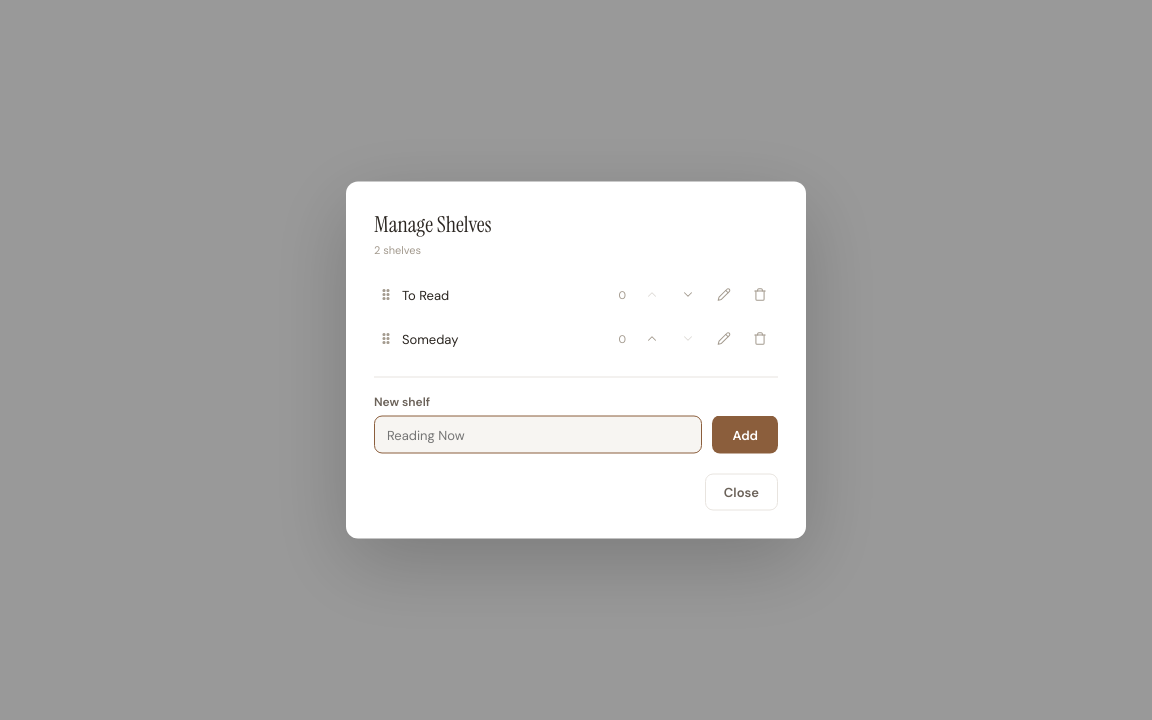
Scenario: ShelfManager › keeps a refused rename open, with the name still typed
Expected: the text "Someday" is shown, [402,330,458,347]
Click the button named "Edit Someday" at point(724, 338), box [710,324,738,352]
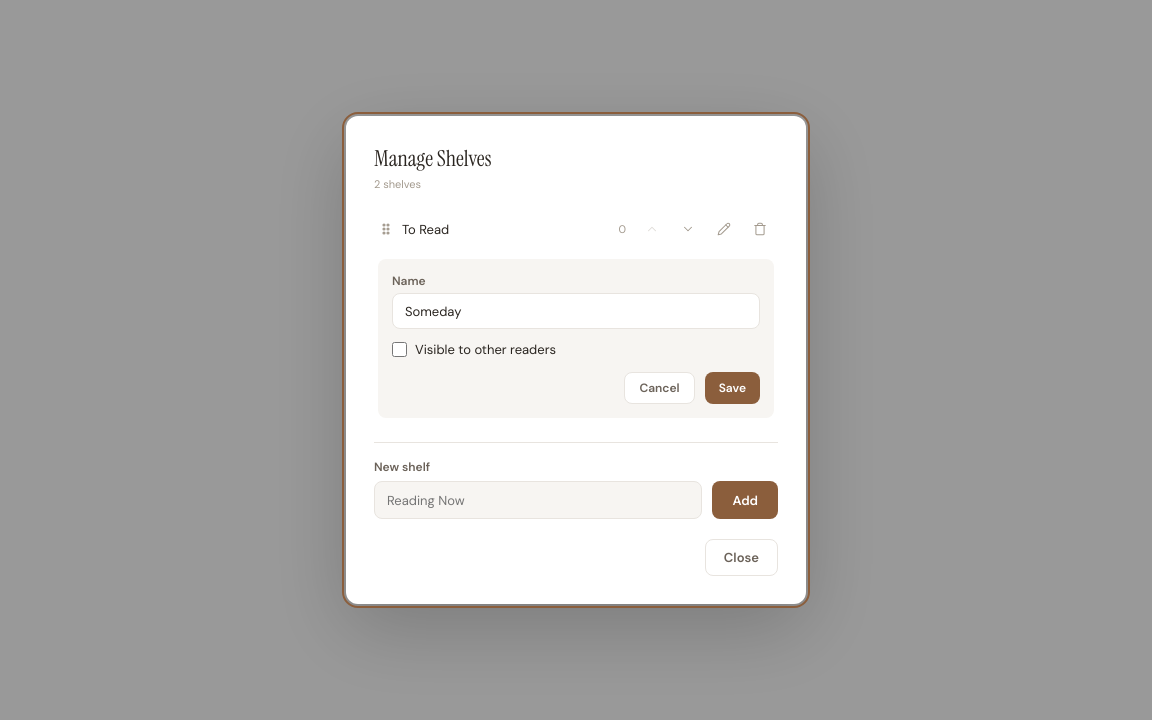
Replace the text in the field labelled "Name" with "to read" at point(576, 311), box [392,293,760,329]
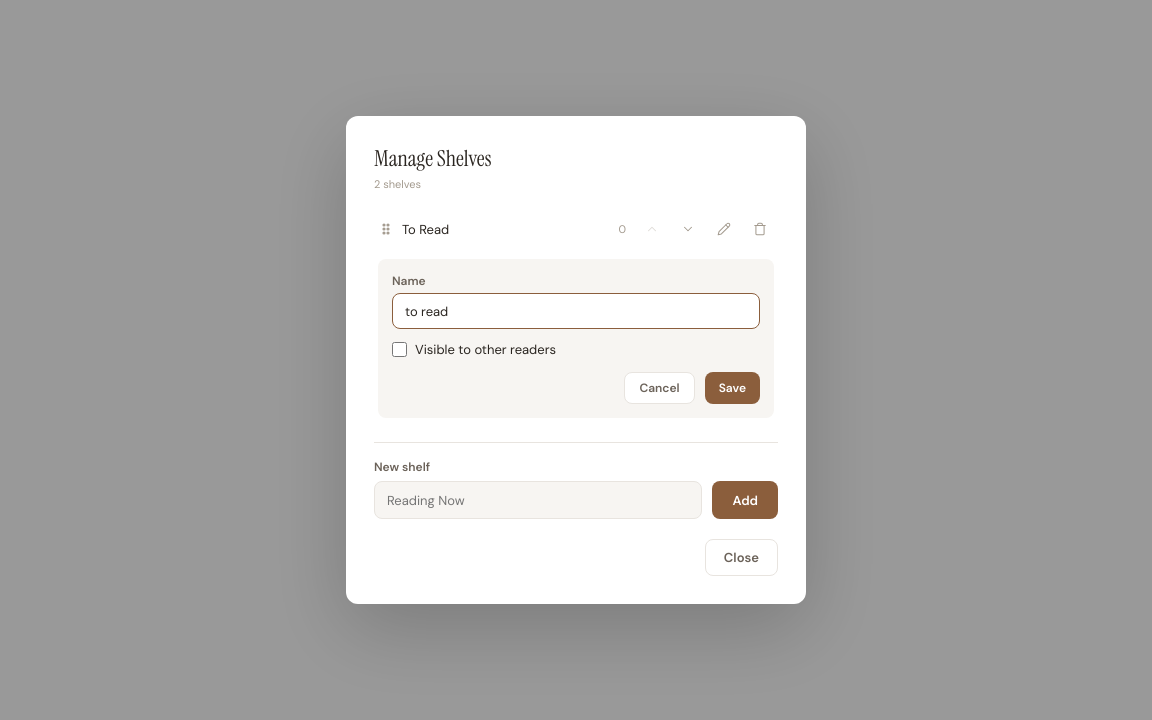
Click the button "Save" at point(732, 388), box [705,372,760,404]
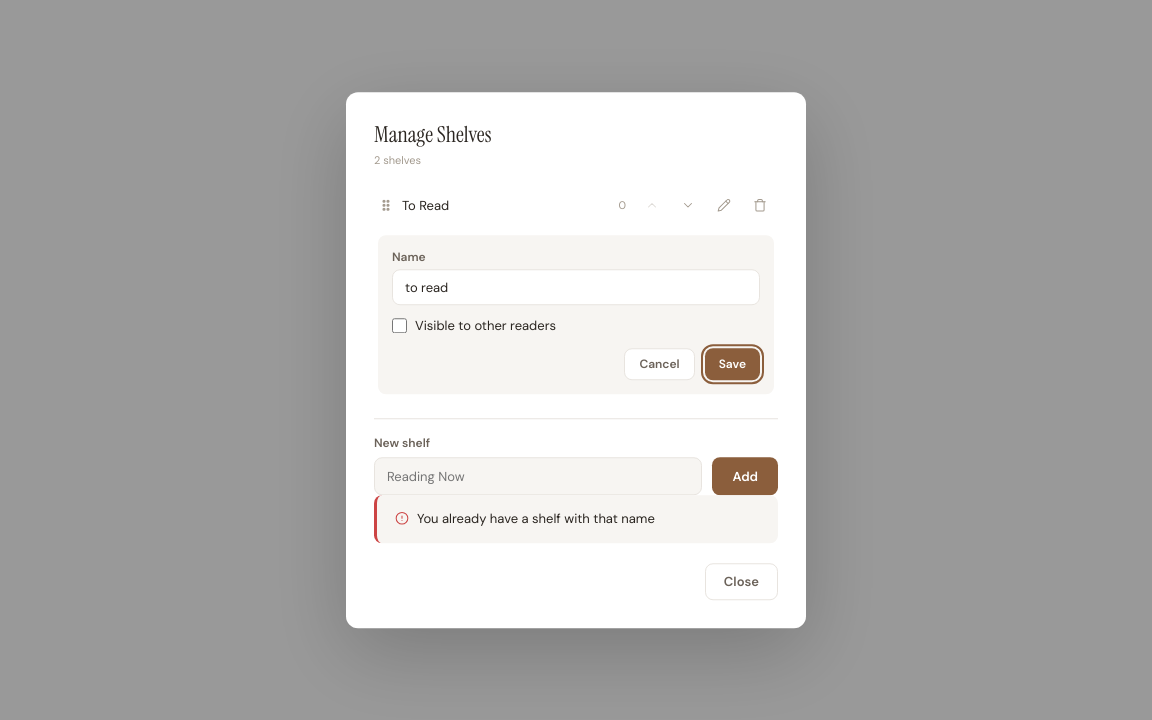
Now the message shows "already have a shelf with that name", box [417,510,655,527]
